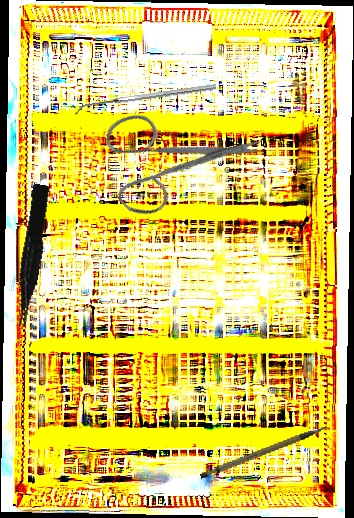Iris Scissors: (76, 58, 269, 251)
Scalpel Handle: (195, 425, 333, 481)
Spatula Surgical: (73, 84, 218, 115)
Tissue Forceps: (6, 183, 56, 328)
